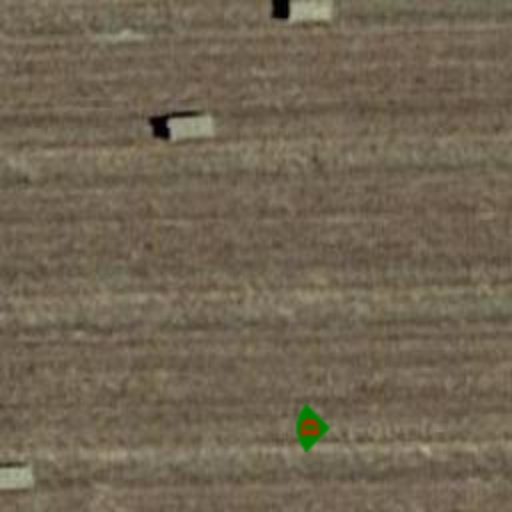quarter_circle: (286, 404, 334, 452)
